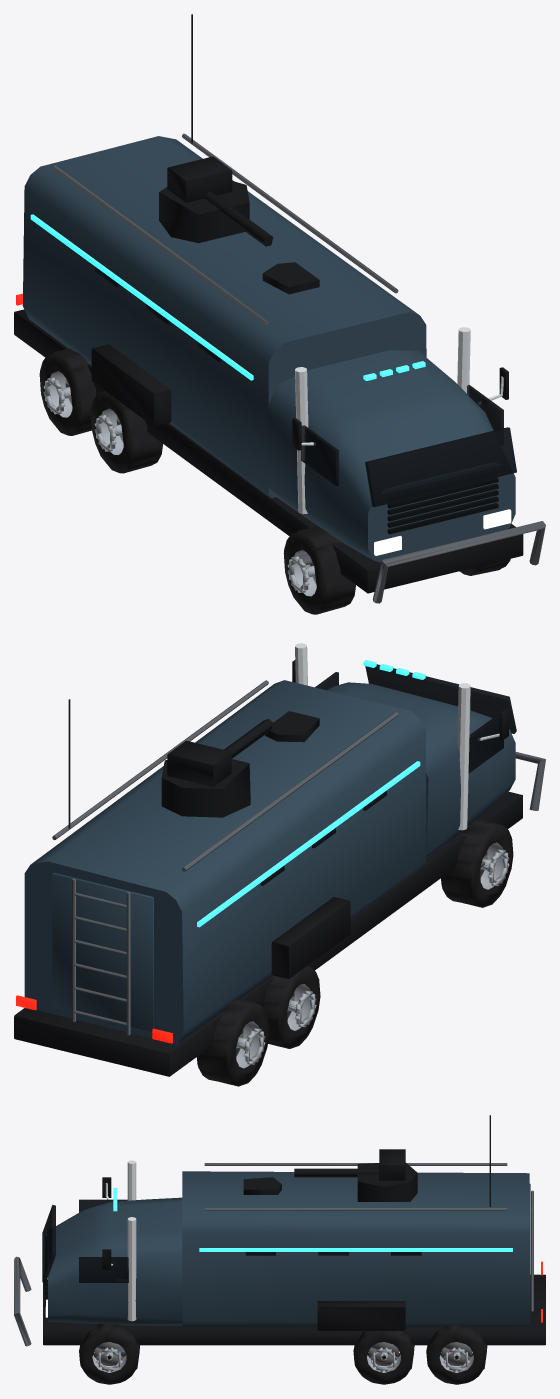
The model's file is tech-transport-lod.glb.
3 renders of one model, top to bottom at view 1: azimuth 30°, elevation 25°; view 2: azimuth 150°, elevation 25°; view 3: azimuth 270°, elevation 25°, orthographic. The views are drawn at different scales.
Visible parts, largest first — view 1: Body, WheelFL, WheelML, WheelRL; view 2: Body, WheelFL, WheelRL, WheelML; view 3: Body, WheelFR, WheelRR, WheelMR.
Part boxes in pixels (<box>): Body: <box>14,14,545,603</box>; WheelFL: <box>283,526,355,614</box>; WheelML: <box>91,391,162,473</box>; WheelRL: <box>39,348,96,435</box>; Body: <box>14,643,545,1076</box>; WheelFL: <box>441,818,513,907</box>; WheelRL: <box>196,998,269,1086</box>; WheelML: <box>263,966,320,1048</box>; Body: <box>14,1115,545,1353</box>; WheelFR: <box>79,1323,139,1384</box>; WheelRR: <box>426,1324,487,1384</box>; WheelMR: <box>353,1331,414,1384</box>.
Size of the model in its own units: 3.09 by 5.1 by 9.5.
